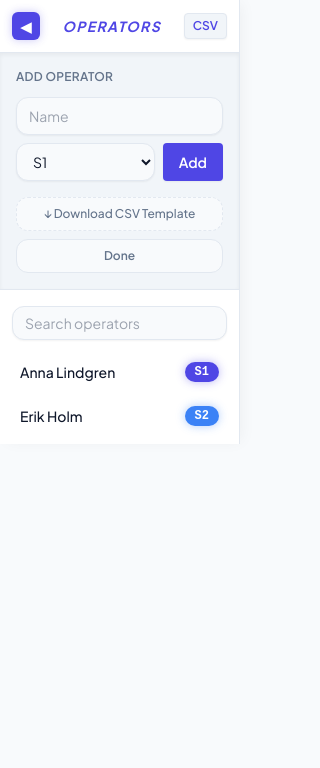
OperatorPanel › shows Remove button only when management is open
Click the text "Anna Lindgren" at (68, 372), box [20,363,115,381]
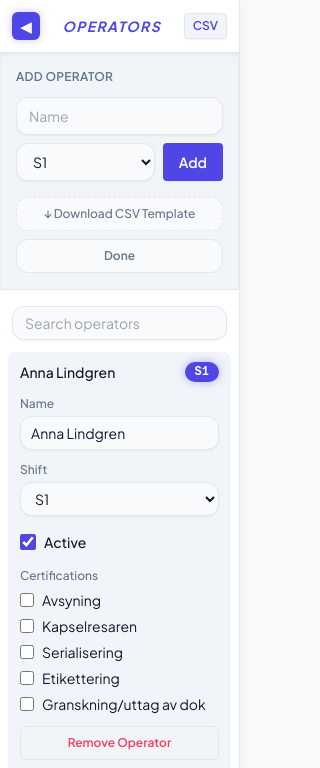
Result: the button "Remove Operator" is shown at [20,726,219,760]
